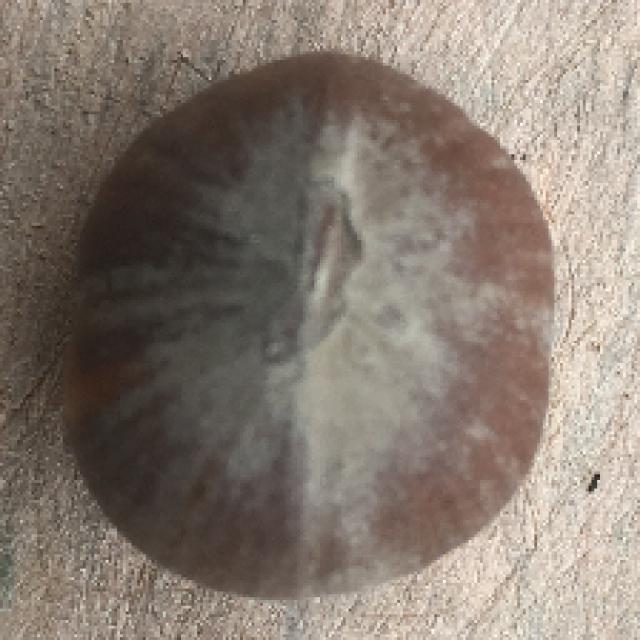DamagedHazelnut: (67, 53, 557, 600)
